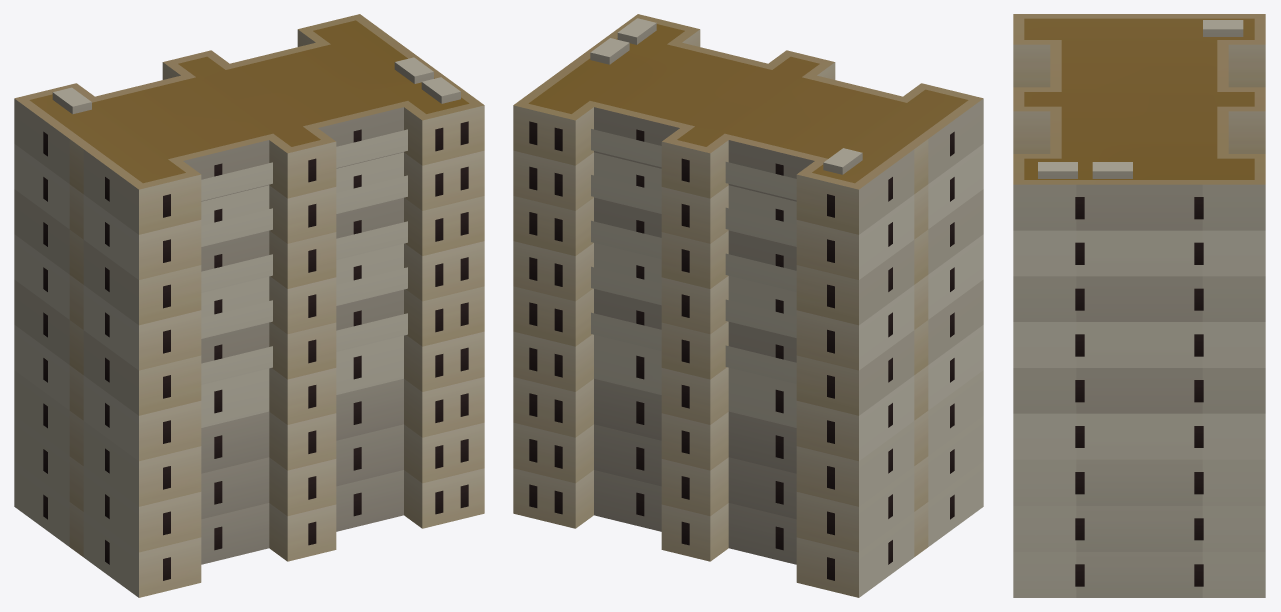
Rendered from SM_City_Building_01.fbx.
3 views of the same model, side by side, from view 1: azimuth 30°, elevation 25°; view 2: azimuth 150°, elevation 25°; view 3: azimuth 270°, elevation 25° (orthographic).
Visible parts, largest first — view 1: SM_City_Building_01; view 2: SM_City_Building_01; view 3: SM_City_Building_01.
Part boxes in pixels (x1,y1,x2,y2): SM_City_Building_01: (14, 14, 484, 597); SM_City_Building_01: (513, 14, 983, 597); SM_City_Building_01: (1013, 14, 1265, 597).
Size of the model in its own units: 6.42 by 7.35 by 4.03.
